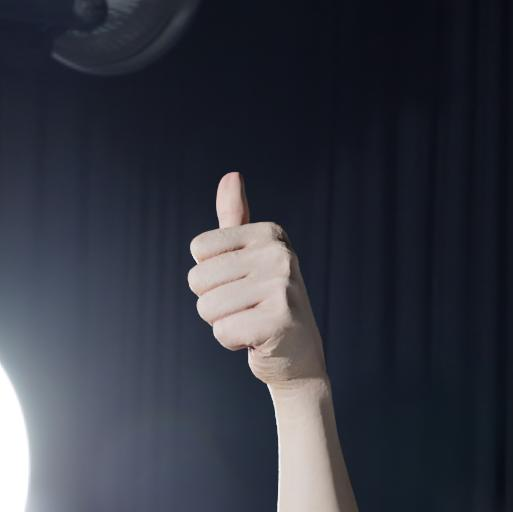thumbs-up: (184, 166, 325, 392)
